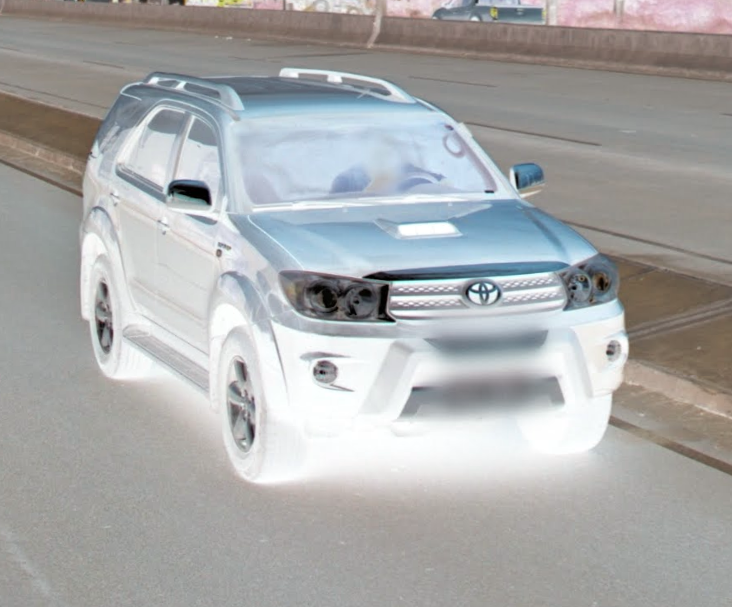car: (74, 64, 631, 485)
